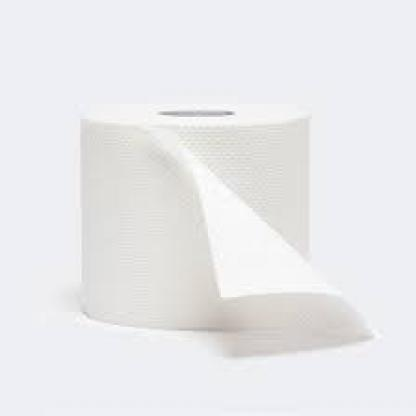tissue: (69, 104, 380, 360)
